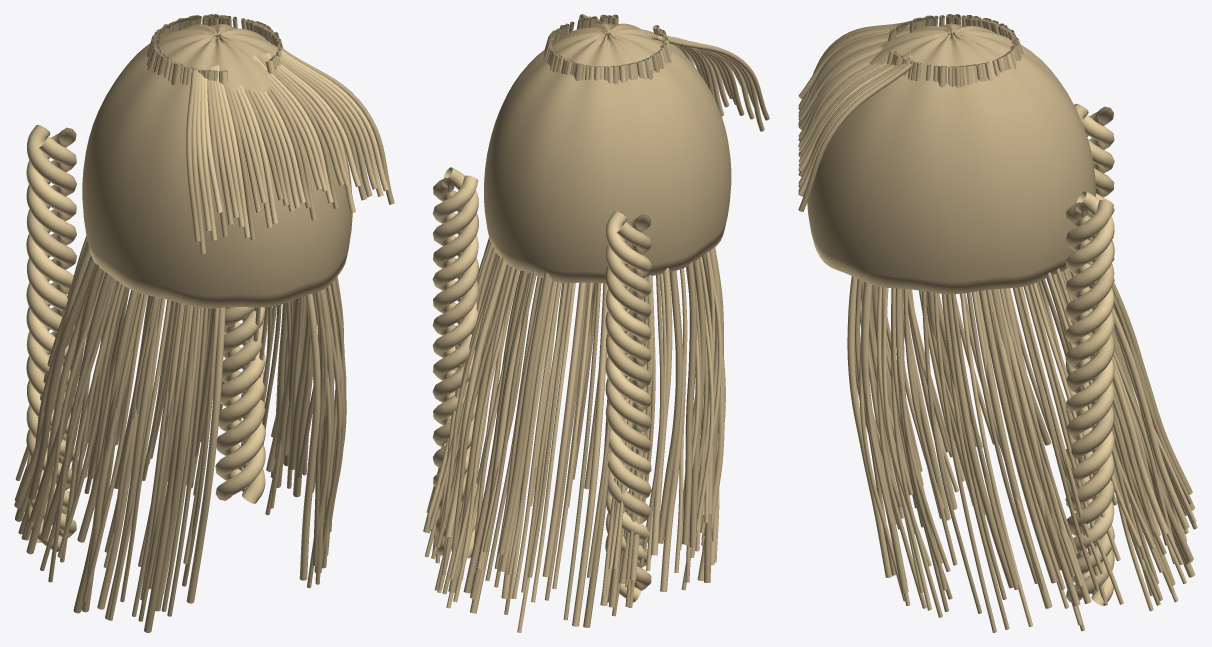
The model's file is wig-fantasy.glb.
The picture shows the model from 3 angles, left to right: view 1: azimuth 30°, elevation 25°; view 2: azimuth 150°, elevation 25°; view 3: azimuth 270°, elevation 25°; orthographic projection. The views are drawn at different scales.
Visible parts, largest first — view 1: Wig cap; view 2: Wig cap; view 3: Wig cap.
Part boxes in pixels (<box>): Wig cap: <box>14,14,394,632</box>; Wig cap: <box>423,14,769,632</box>; Wig cap: <box>798,14,1197,632</box>.
Size of the model in its own units: 0.2067 by 0.4032 by 0.268.
